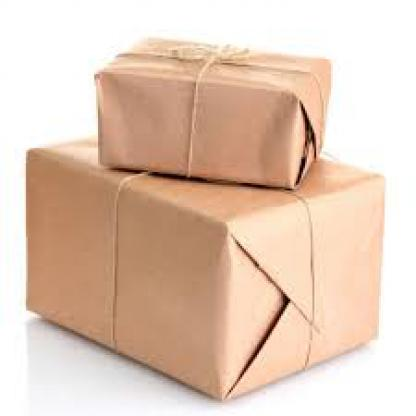paquete: (13, 122, 392, 405), (85, 20, 337, 202)
